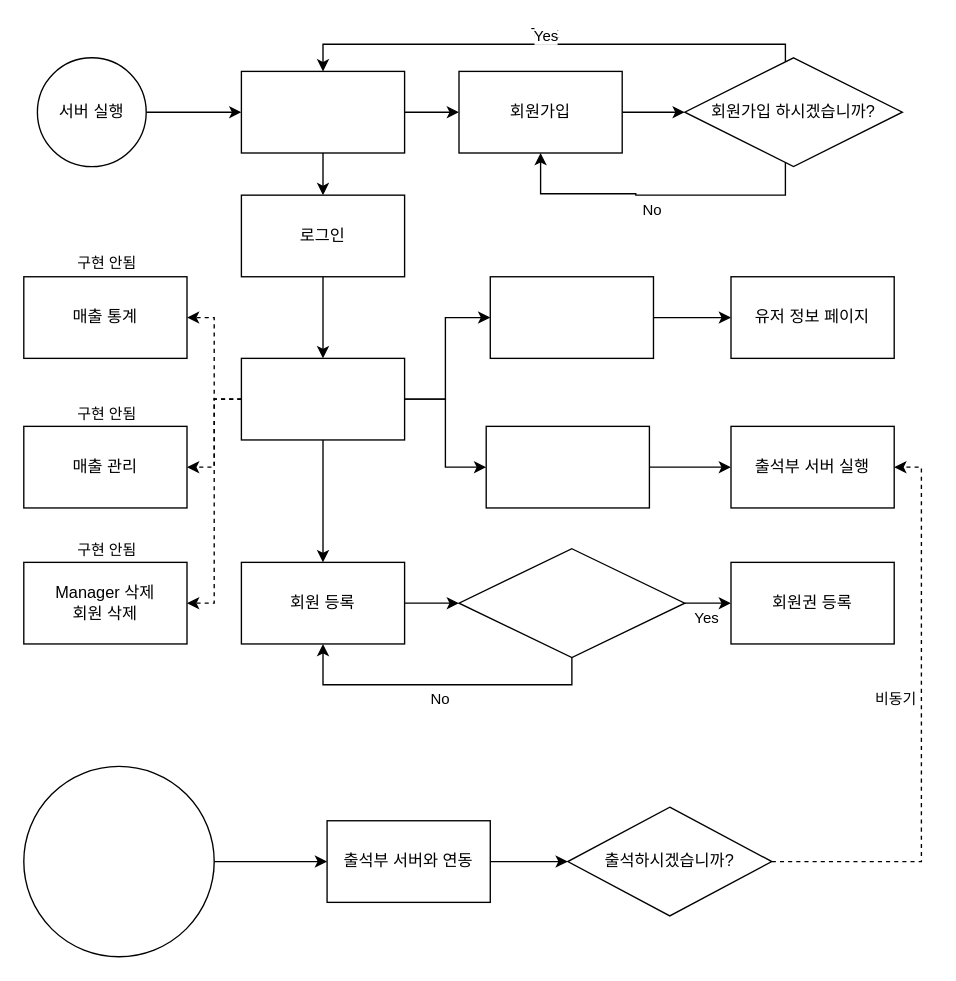
Some shapes in this 956 by 981 pixel diagram are drawn without their labels. Here are the shapes that lost their labels. From the top down, the box of each, then its label:
(240, 70, 405, 153): 로그인 페이지
(489, 275, 653, 358): 고객관리 페이지
(240, 357, 405, 440): 홈 페이지
(485, 425, 649, 508): 출석부
(458, 547, 685, 658): 유저 등록 하시겠습니까?
(22, 765, 214, 957): 출석부 클라이언트 실행
